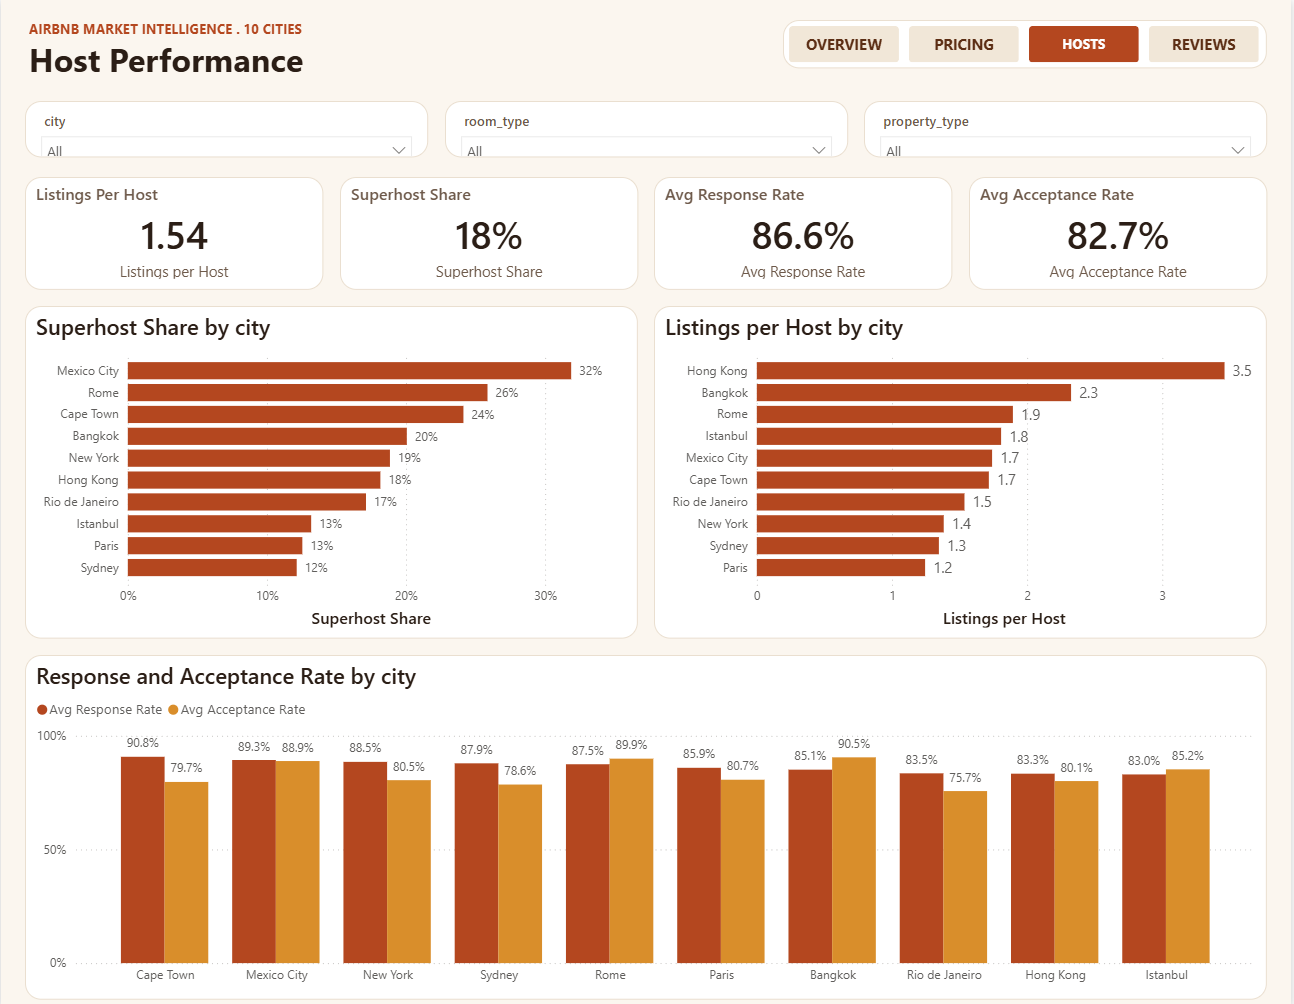

The dashboard page shown, as its layout file describes it:
{"tool":"powerbi","page":{"name":"HOSTS","canvas":[1280,1000],"ordinal":2},"visuals":[{"type":"textbox","box":[24,16,600,72],"z":0},{"type":"pageNavigator","box":[776,20,480,48],"z":1000},{"type":"slicer","fields":{"Values":["Cities.city"]},"box":[24,100,400,56],"z":2000},{"type":"slicer","fields":{"Values":["Listings_clean.room_type"]},"box":[440,100,400,56],"z":3000},{"type":"slicer","fields":{"Values":["Listings_clean.property_type"]},"box":[856,100,400,56],"z":4000},{"type":"card","title":"Listings Per Host","fields":{"Values":["Listings_clean.Listings per Host"]},"box":[24,176,296,112],"z":5000},{"type":"card","title":"Superhost Share ","fields":{"Values":["Listings_clean.Superhost Share"]},"box":[336,176,296,112],"z":6000},{"type":"card","title":"Avg Response Rate","fields":{"Values":["Listings_clean.Avg Response Rate"]},"box":[648,176,296,112],"z":7000},{"type":"card","title":"Avg Acceptance Rate","fields":{"Values":["Listings_clean.Avg Acceptance Rate"]},"box":[960,176,296,112],"z":8000},{"type":"clusteredBarChart","fields":{"Category":["Cities.city"],"Y":["Listings_clean.Superhost Share"]},"box":[24,304,608,330],"z":9000},{"type":"clusteredBarChart","fields":{"Category":["Cities.city"],"Y":["Listings_clean.Listings per Host"]},"box":[648,304,608,330],"z":10000},{"type":"clusteredColumnChart","title":"Response and Acceptance Rate by city","fields":{"Category":["Cities.city"],"Y":["Listings_clean.Avg Response Rate","Listings_clean.Avg Acceptance Rate"]},"box":[24,650,1232,342],"z":11000}]}

Visuals, with their boxes in screenshot pixels (x1, y1, x2, y2), scaled from the page's 1280x1000 canvas onto the 1294x1004 screenshot:
textbox: 24/16/631/88
pageNavigator: 784/20/1270/68
slicer - Cities.city: 24/100/429/157
slicer - Listings_clean.room_type: 445/100/849/157
slicer - Listings_clean.property_type: 865/100/1270/157
"Listings Per Host" card: 24/177/324/289
"Superhost Share " card: 340/177/639/289
"Avg Response Rate" card: 655/177/954/289
"Avg Acceptance Rate" card: 970/177/1270/289
clusteredBarChart - Cities.city x Listings_clean.Superhost Share: 24/305/639/637
clusteredBarChart - Cities.city x Listings_clean.Listings per Host: 655/305/1270/637
"Response and Acceptance Rate by city" clusteredColumnChart: 24/653/1270/996
